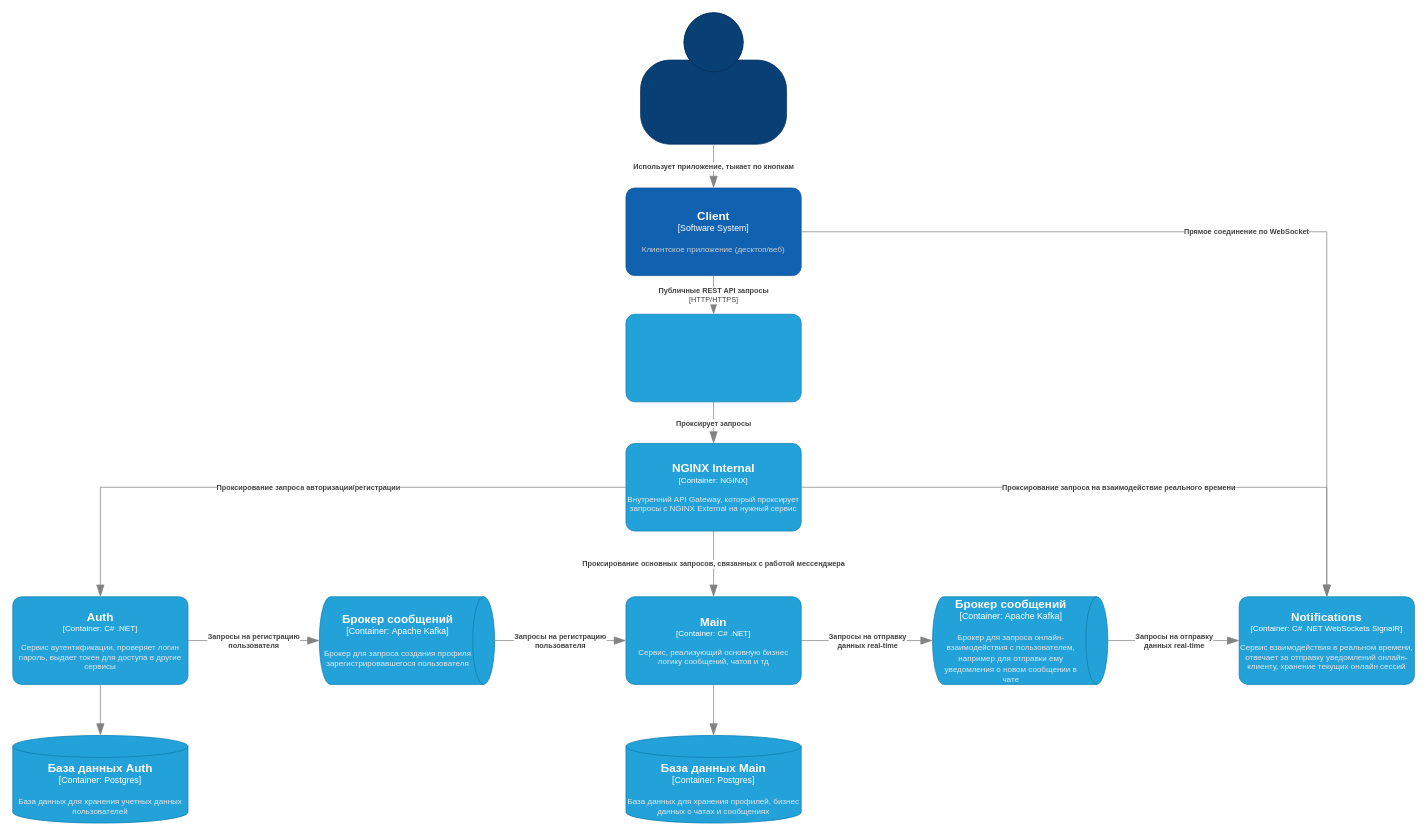
Image size: 1427x836. Some labels were removed from this diagram. The centre of each missing label's shape, as x and y in pixels:
"NGINX External [Container: NGINX] Внешний публичный API, доступный для клиента" goes at point 713,358.
"Пользователь [Person]" goes at point 713,78.
